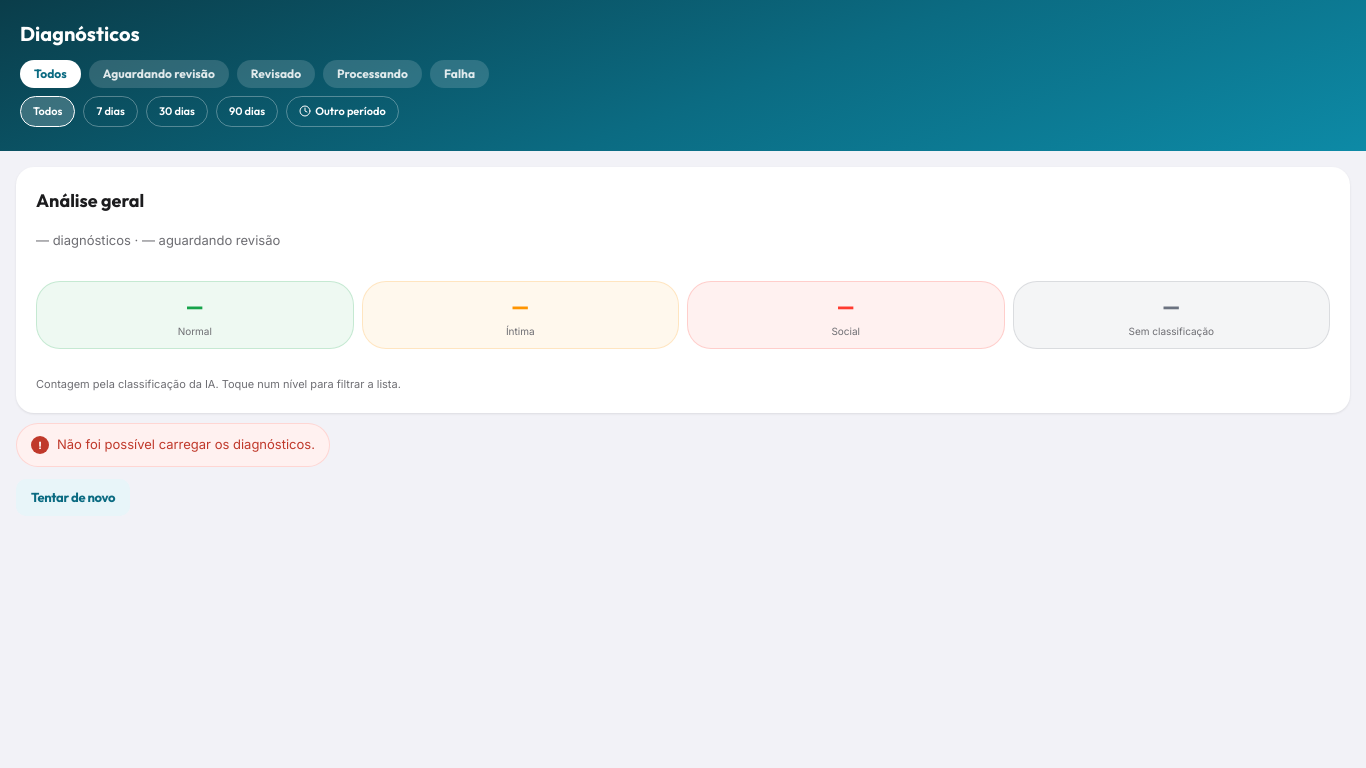
Fila de diagnósticos do admin › se a lista falhar, avisa e deixa tentar de novo
The width and height of the screenshot is (1366, 768).
Expected: the text "Não foi possível carregar os diagnósticos." is shown, [57,435,315,454]
Click the button "Tentar de novo": point(73, 497) [16,478,130,516]
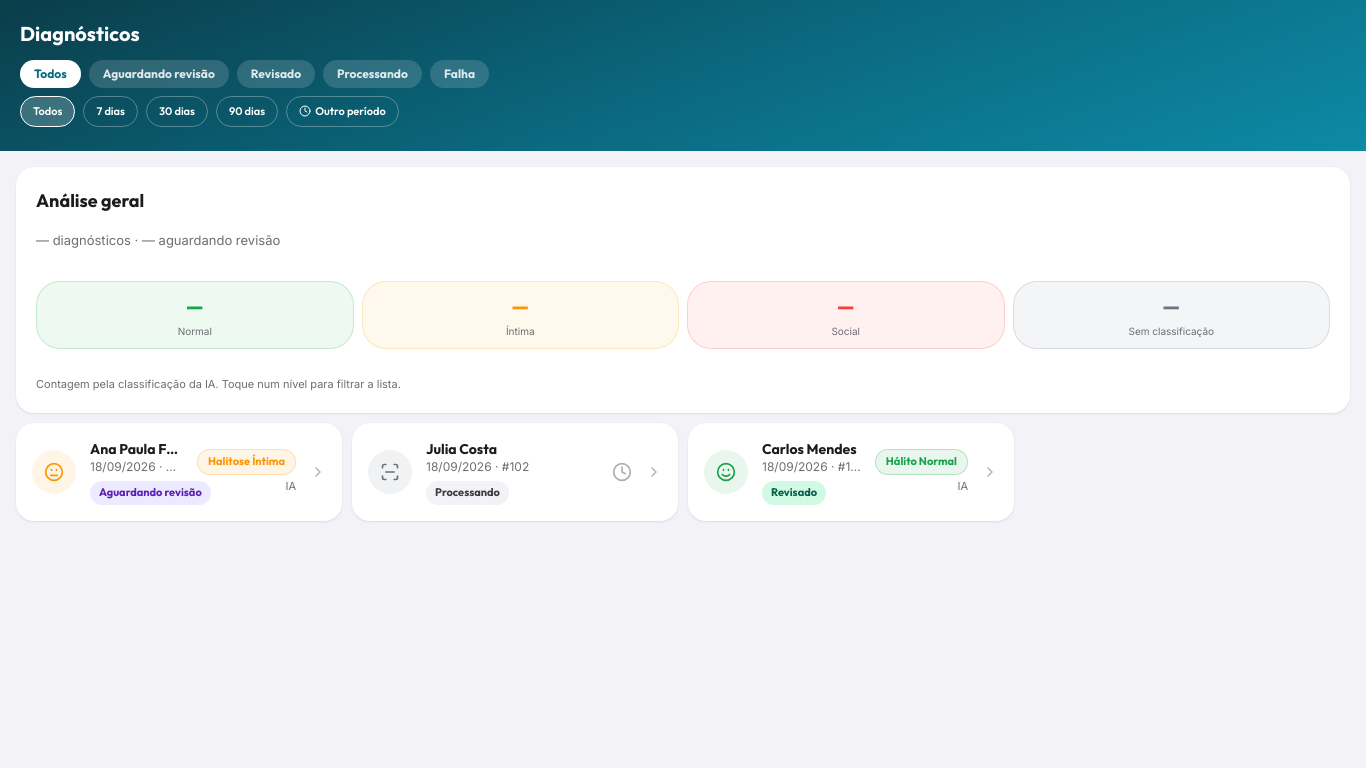
Now the text "Ana Paula Ferreira" is shown, box [90,439,183,459]
Now the text "Não foi possível carregar os diagnósticos." is gone
